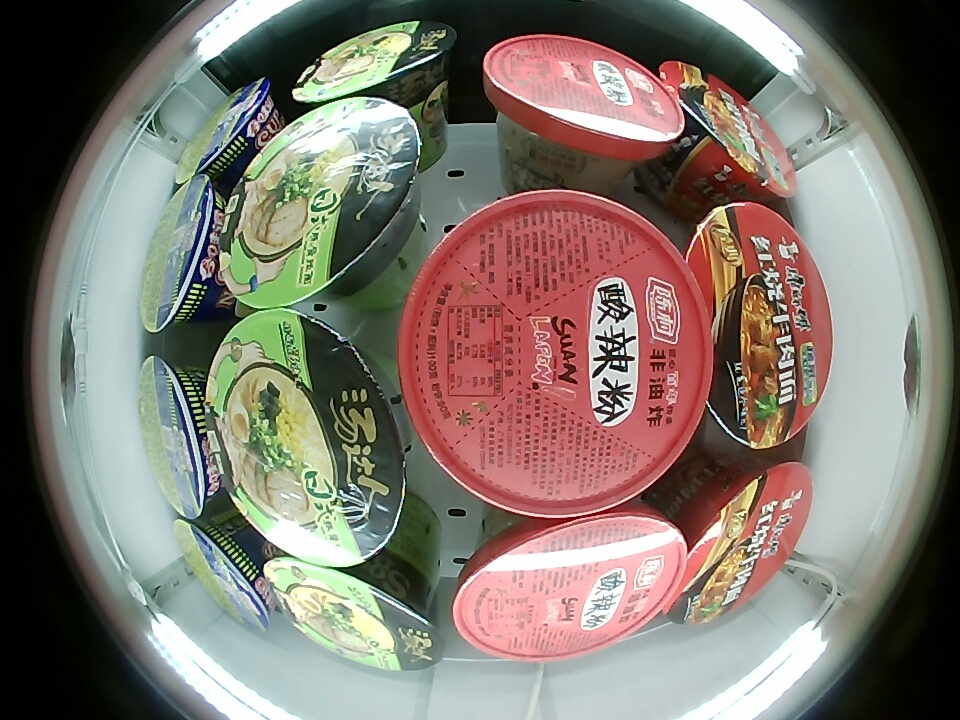heweidao: (137, 173, 226, 334), (138, 355, 222, 519), (173, 79, 278, 187), (173, 517, 271, 632)
hongshaoniurou: (680, 205, 831, 453), (674, 458, 812, 624), (657, 59, 798, 198)
suanlafen: (398, 190, 714, 517), (451, 499, 689, 660), (484, 33, 685, 158)
tangdaren: (204, 308, 412, 569), (218, 97, 423, 307), (263, 553, 445, 672), (293, 20, 457, 116)
